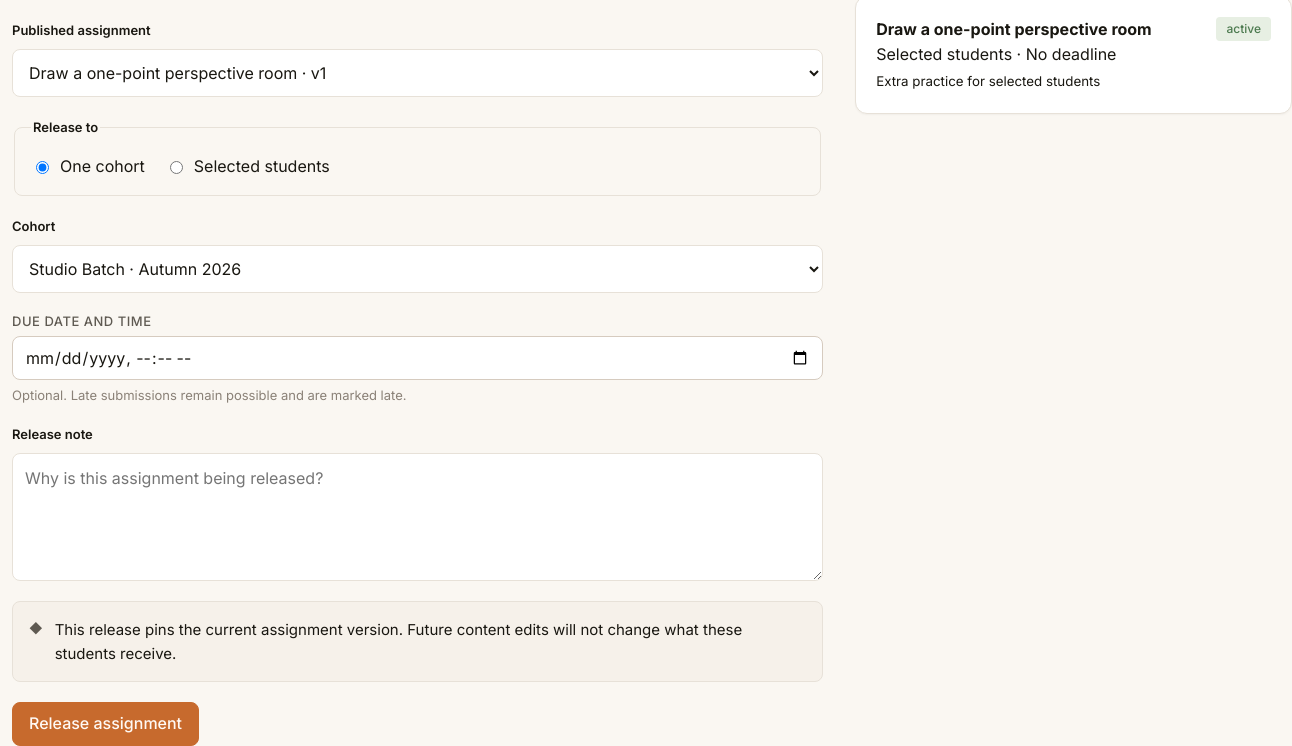
Scenario: AssignmentDistributionPage › previews a deliberate cohort release without contacting live data
(page scrolled)
Expected: the dropdown labelled "Published assignment" shows "Draw a one-point perspective room · v1", left=12, top=49, right=823, bottom=97
Type "Weekly perspective practice" into the text box labelled "Release note".
click(418, 517); type("Weekly perspective practice")  # box left=12, top=453, right=823, bottom=581
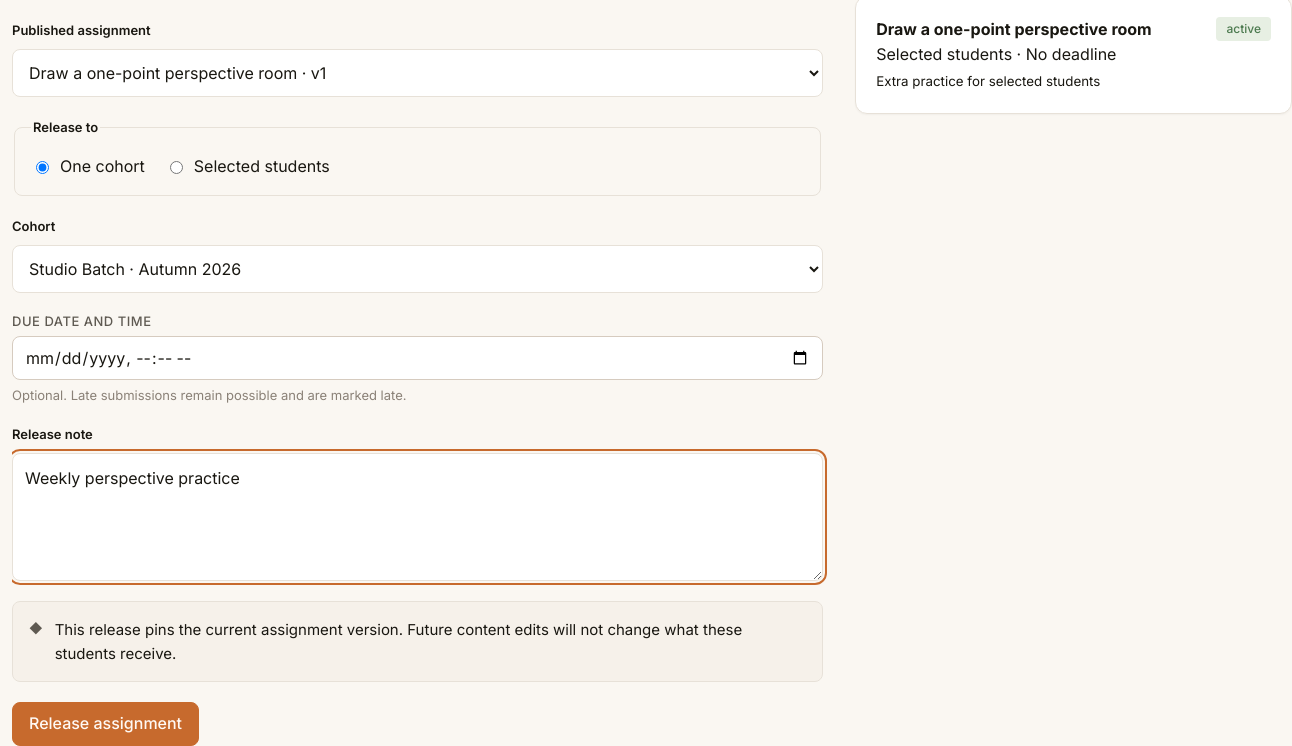
Click the button "Release assignment".
click(106, 724)  # box left=12, top=702, right=199, bottom=745
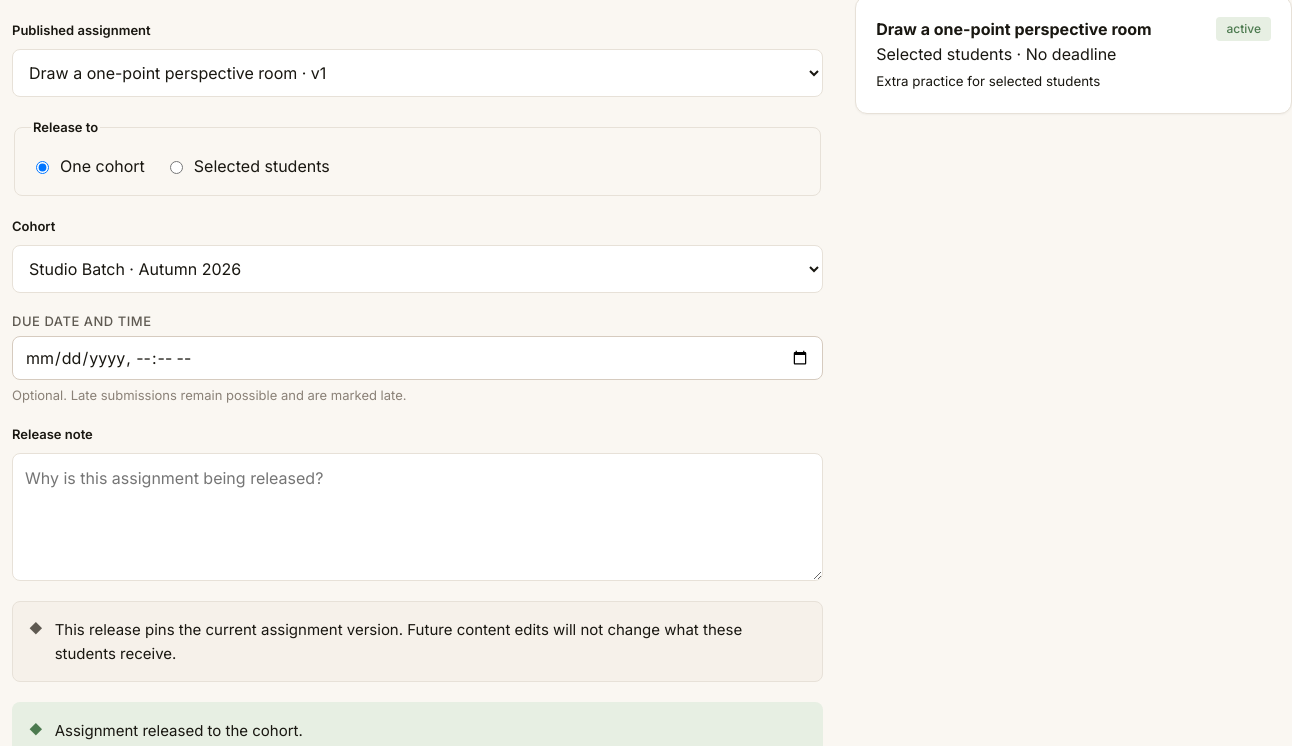
Result: the text "Assignment released to the cohort." is shown at left=55, top=719, right=303, bottom=742
